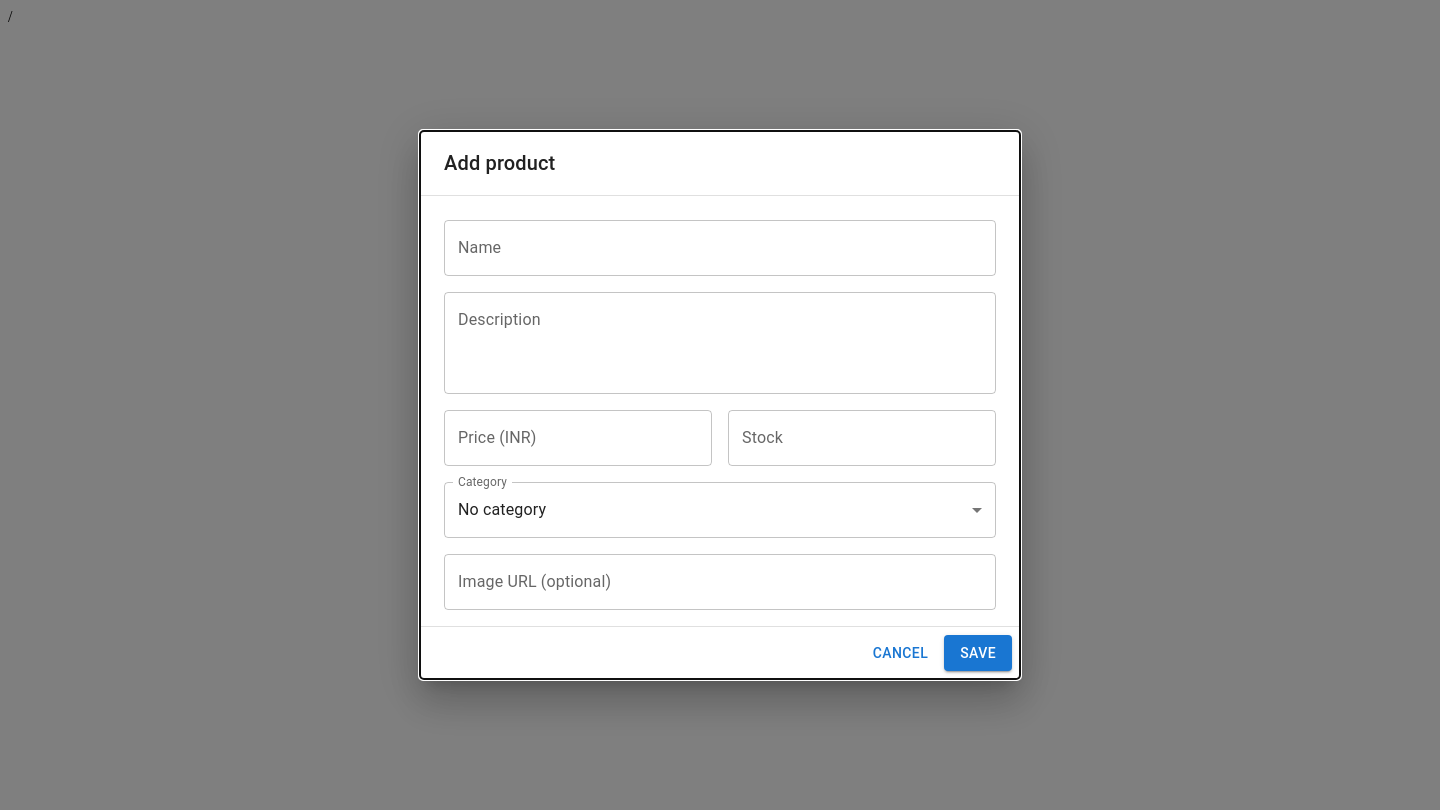
ProductFormModal › rejects name=Lamp price=0 stock=1
Type "Lamp" into the field labelled "Name" at (720, 248), box [444,220,996,276]
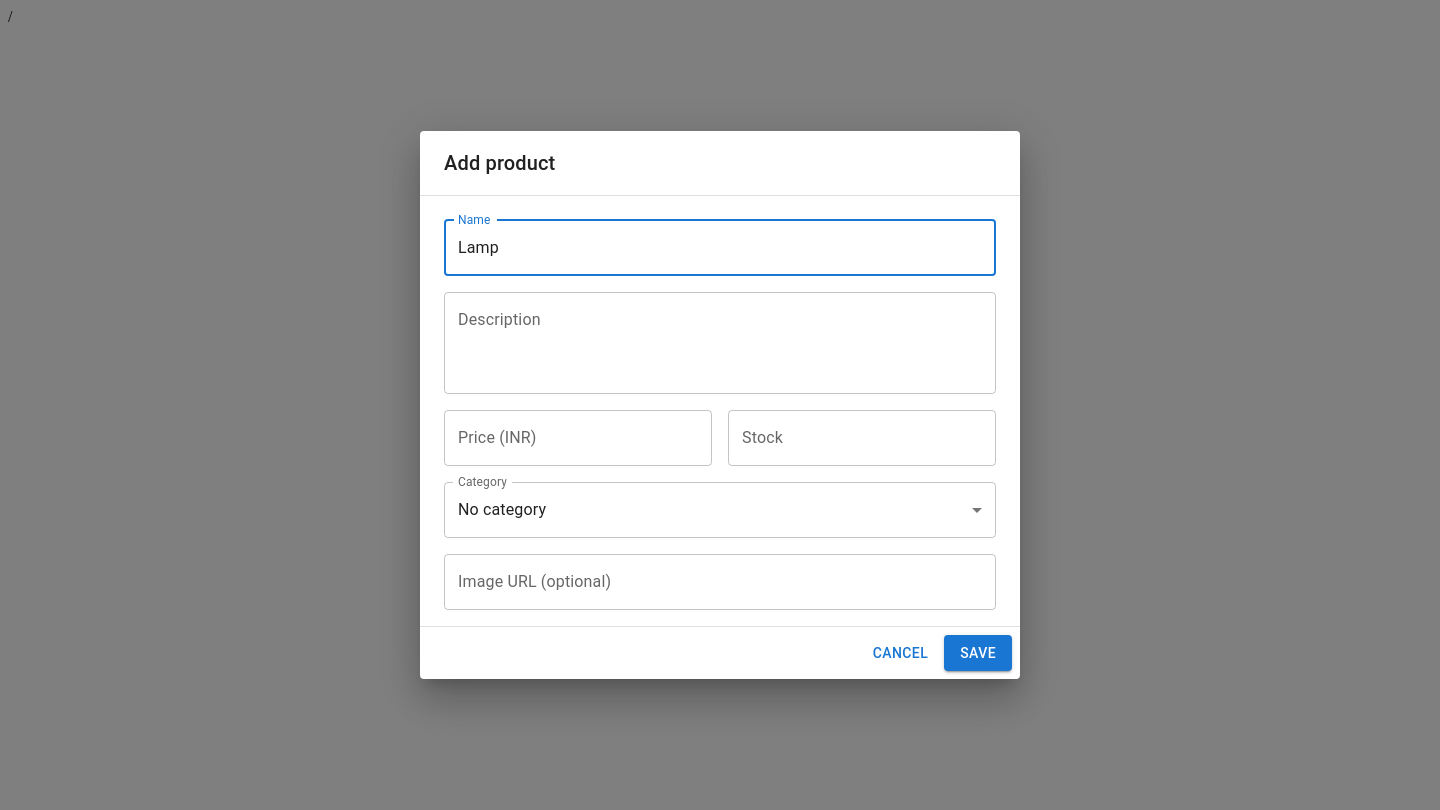
Type "0" into the number field labelled "Price (INR)" at (578, 438), box [444,410,712,466]
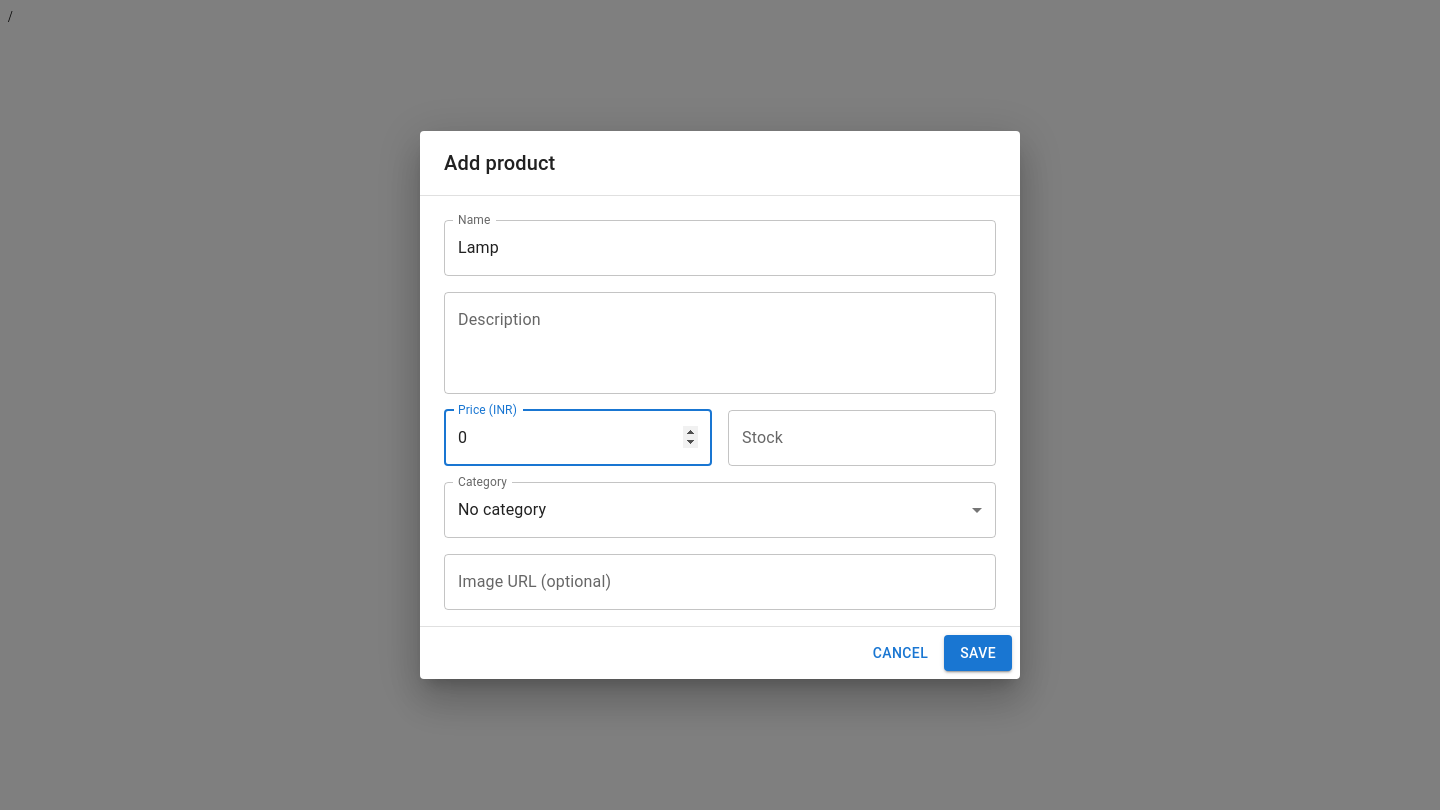
Type "1" into the number field labelled "Stock" at (862, 438), box [728,410,996,466]
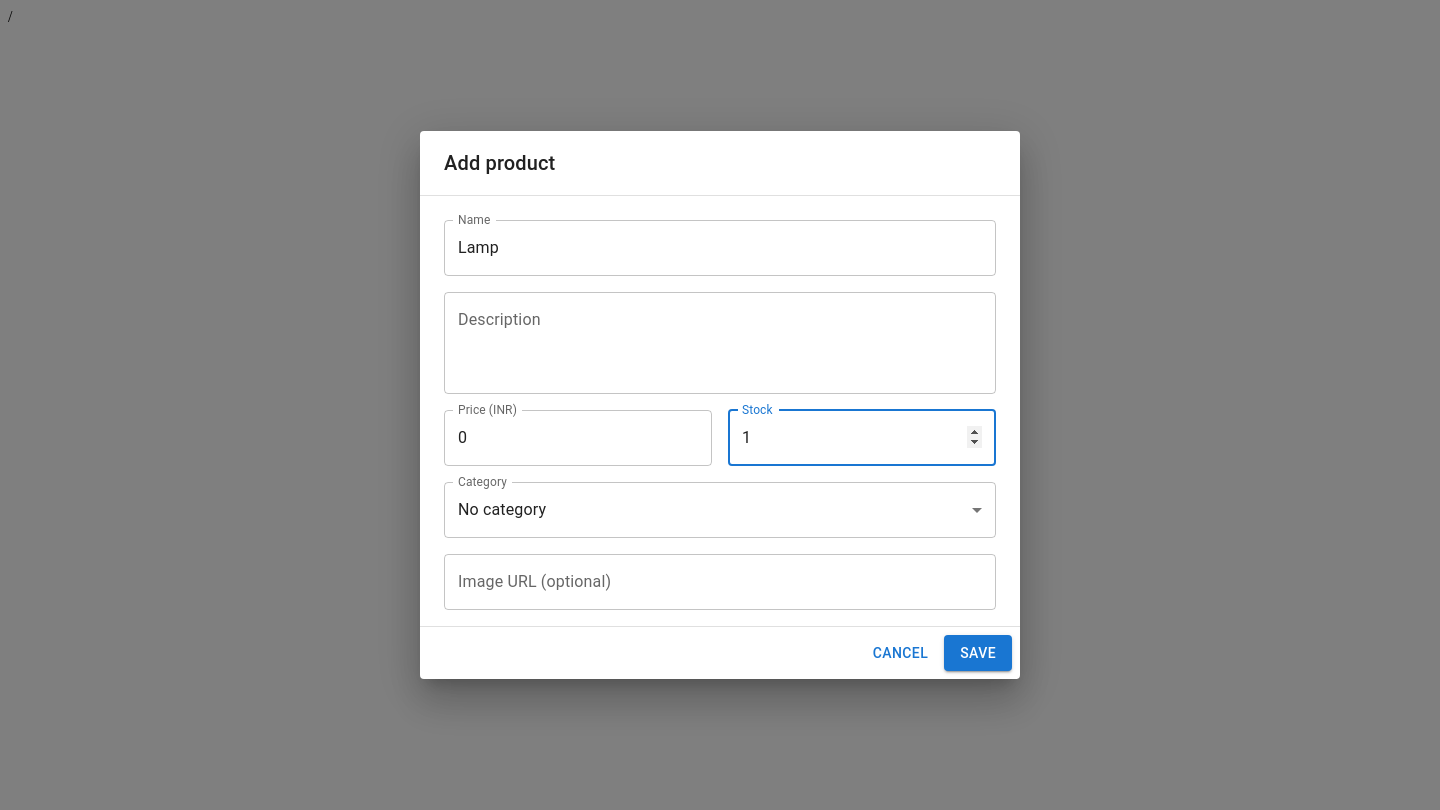
Click the button "Save" at (978, 653), box [944,635,1012,671]
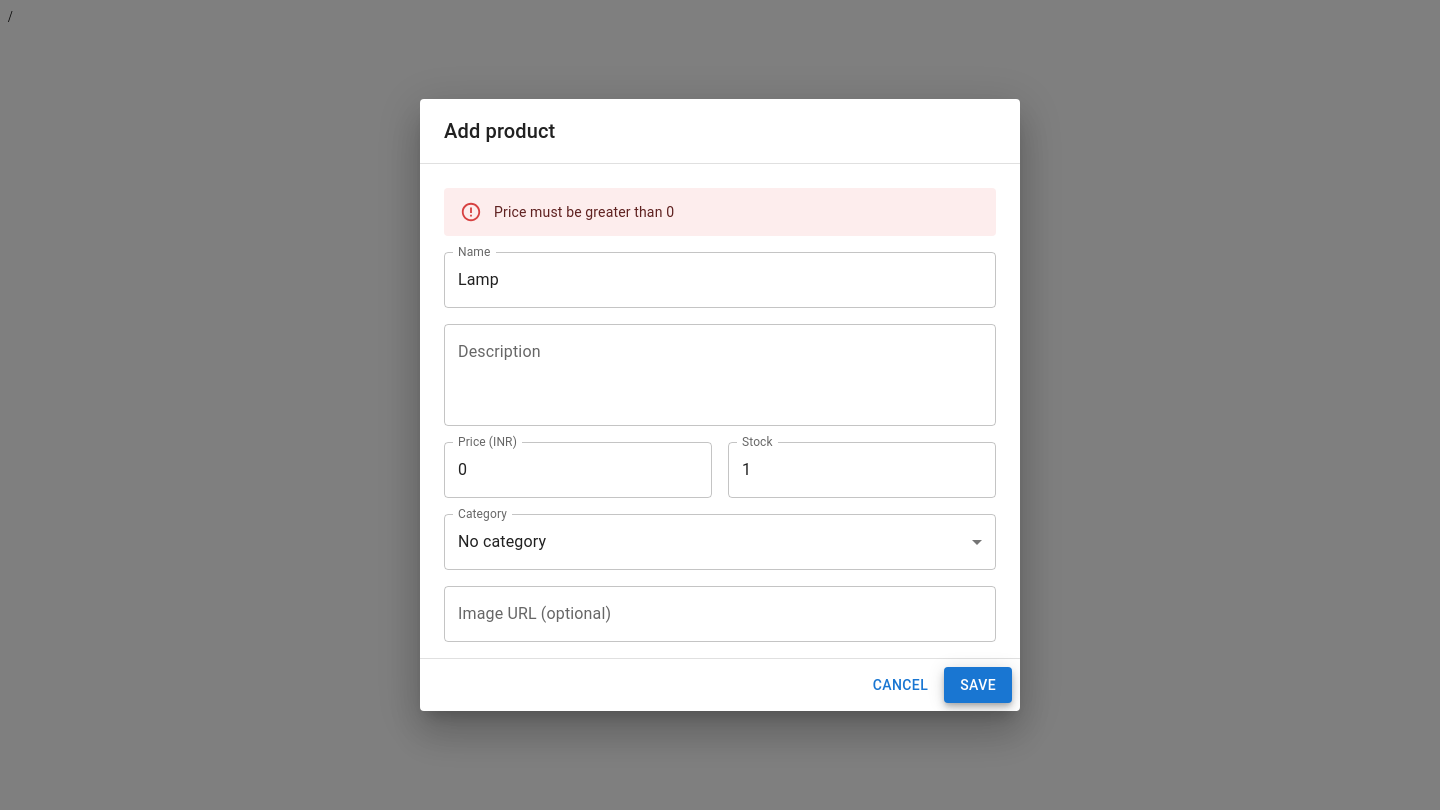
Check: the text "Price must be greater than 0" is shown, box [494,204,674,220]
